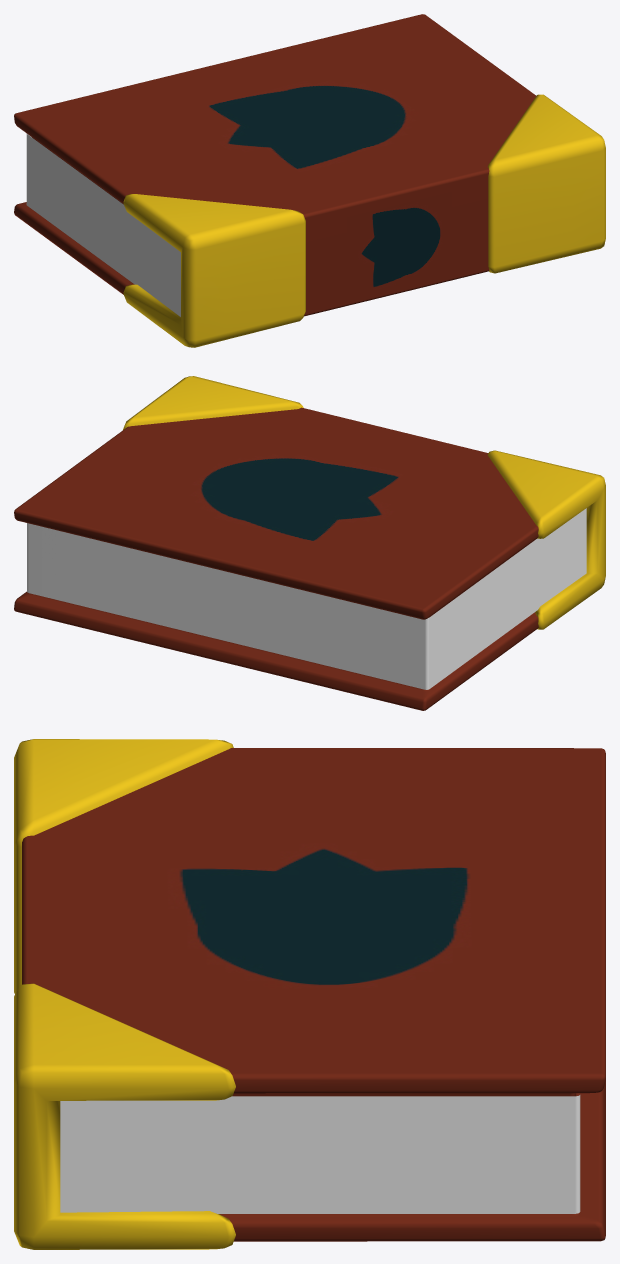
The model's file is BookDark.fbx.
3 renders of one model, top to bottom at view 1: azimuth 30°, elevation 25°; view 2: azimuth 150°, elevation 25°; view 3: azimuth 270°, elevation 25°, orthographic. The views are drawn at different scales.
Parts seen in each view (by area): view 1: BookWater1; view 2: BookWater1; view 3: BookWater1.
Boxes of the visible parts, bbox=[...] form: BookWater1: bbox=[14, 14, 605, 347]; BookWater1: bbox=[14, 376, 605, 710]; BookWater1: bbox=[14, 739, 605, 1249].
Bounding box in the file's own units: 3.06 × 0.7823 × 2.27.
